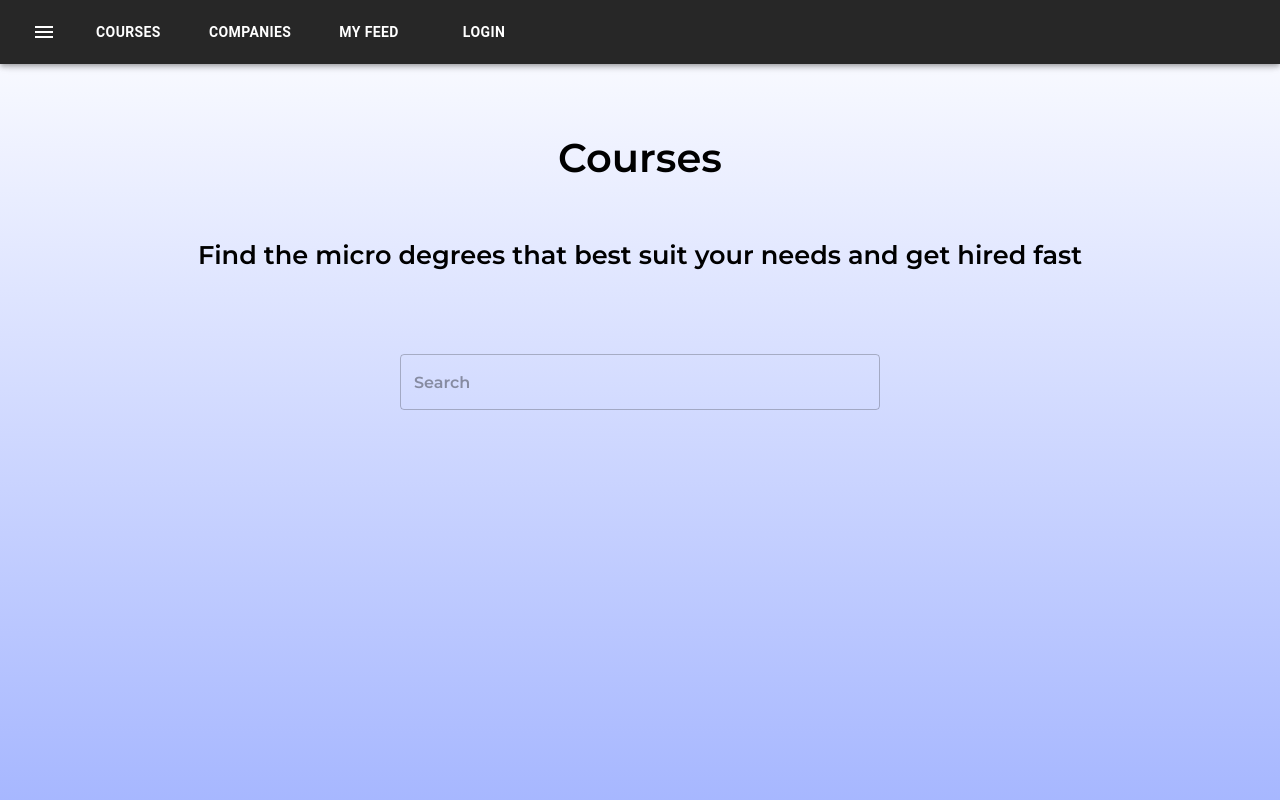
Microdegree app login › Login page can be opened
Click the link "Login".
click(484, 32)  # box [463,24,505,40]
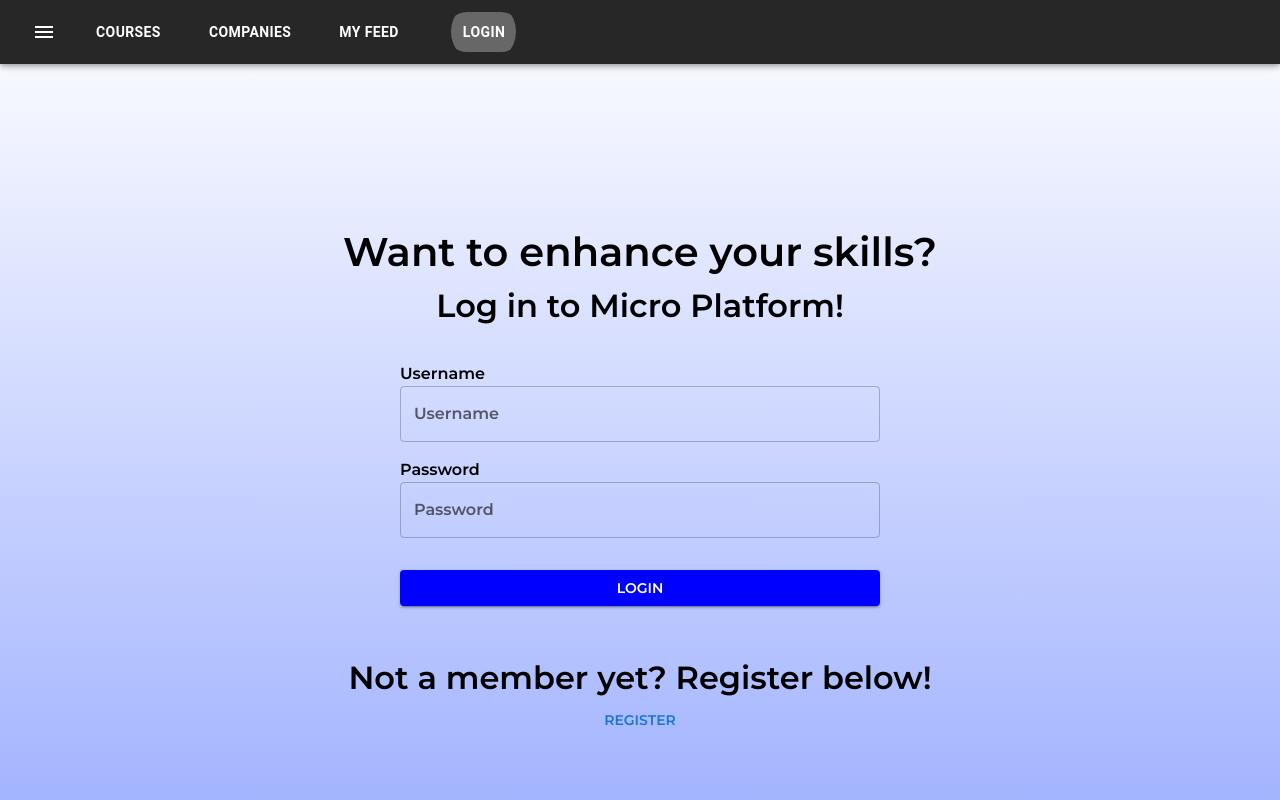
Expected: the text "Username" is shown, [400,364,485,382]
Expected: the text "Password" is shown, [400,460,480,478]
